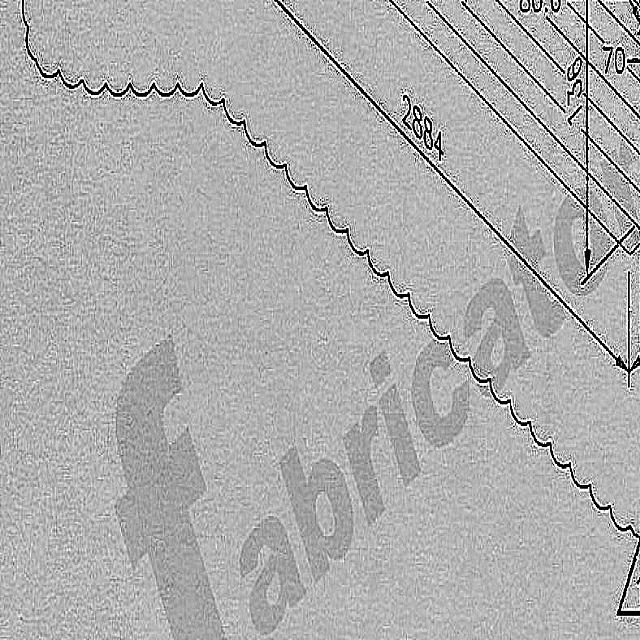Measrement: (264, 0, 631, 398), (563, 0, 602, 287)
